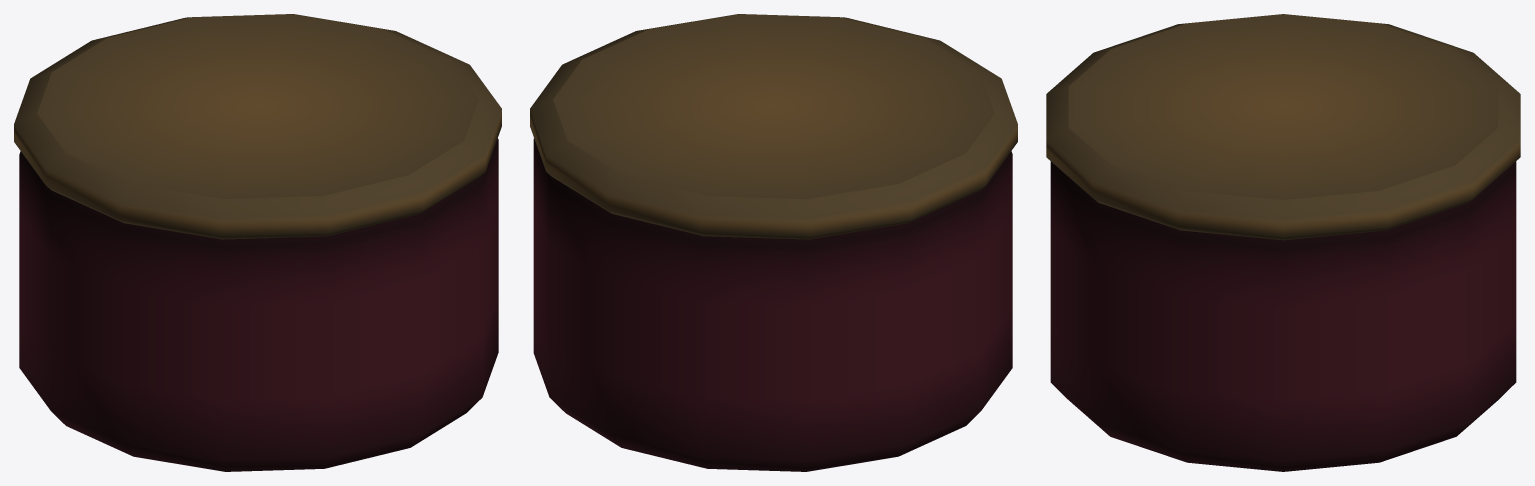
File: jamJar.fbx
3 renders of one model, left to right at view 1: azimuth 30°, elevation 25°; view 2: azimuth 150°, elevation 25°; view 3: azimuth 270°, elevation 25°, orthographic.
Parts seen in each view (by area): view 1: JamJar; view 2: JamJar; view 3: JamJar.
Part boxes in pixels (<box>): JamJar: <box>14,14,501,471</box>; JamJar: <box>530,14,1017,471</box>; JamJar: <box>1046,14,1520,471</box>.
Bounding box in the file's own units: 167 × 103 × 163.
